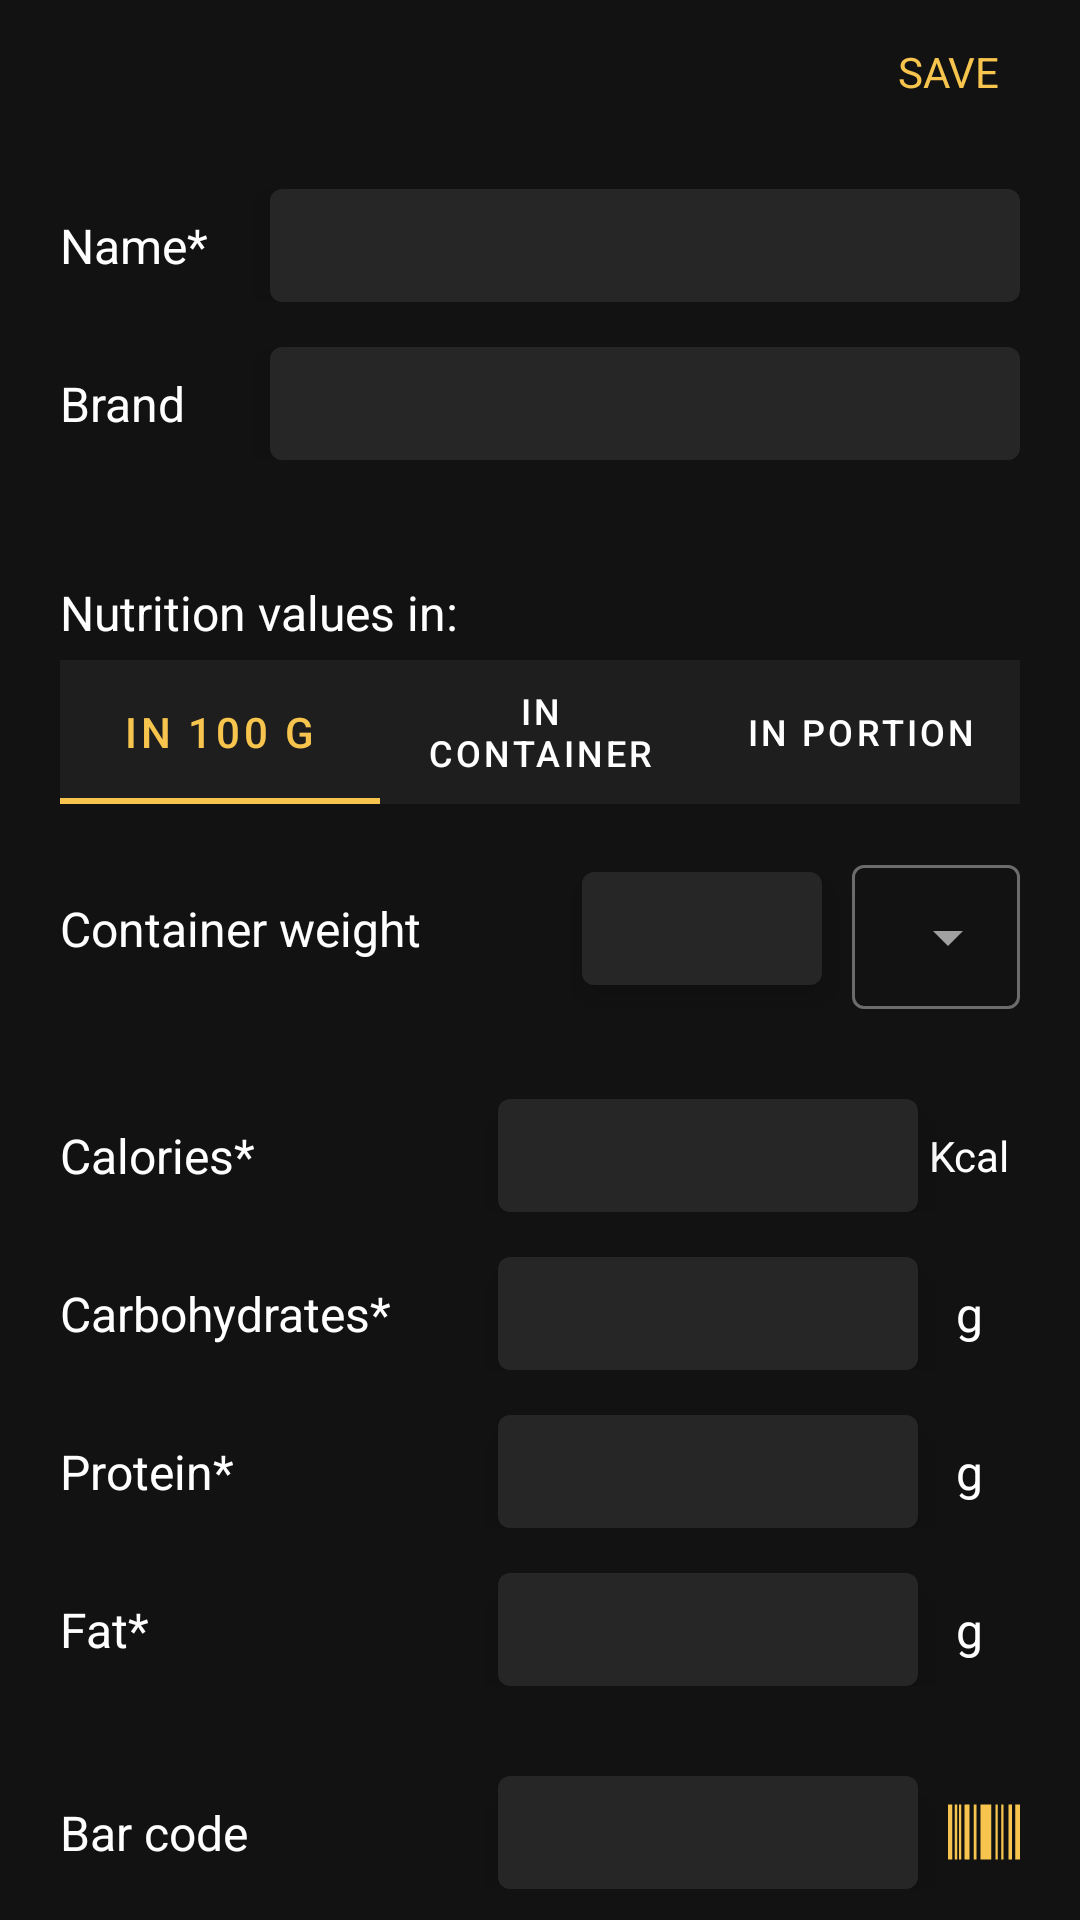

Named icons in this screenshot (1080*1920) and their centers, [x,y]:
bar code: [984,1832]
